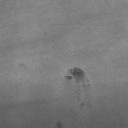iron sheet ash: (64, 66, 85, 84), (56, 121, 64, 128), (82, 84, 91, 88), (80, 102, 84, 106)
